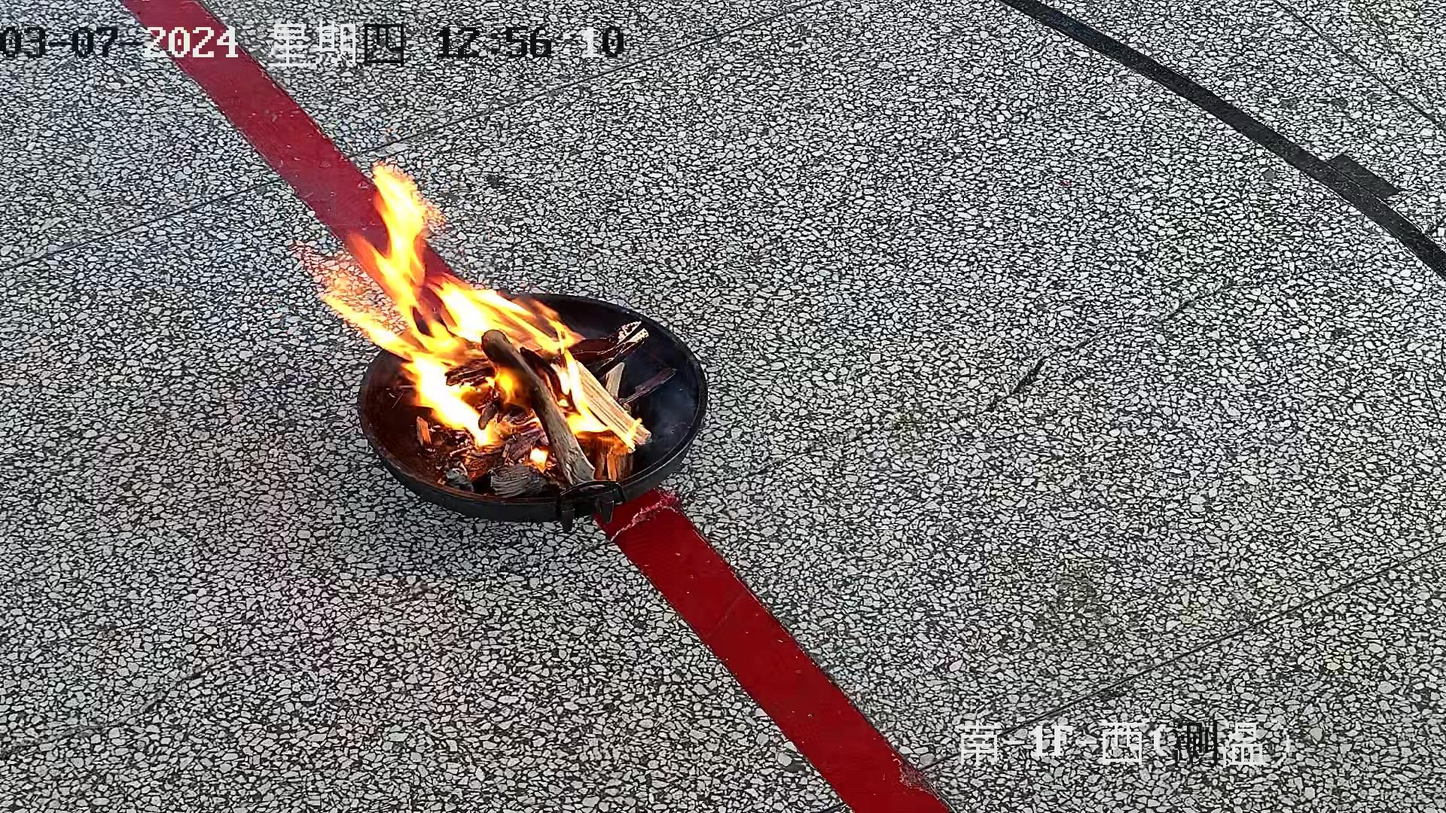fire: (317, 165, 649, 481)
